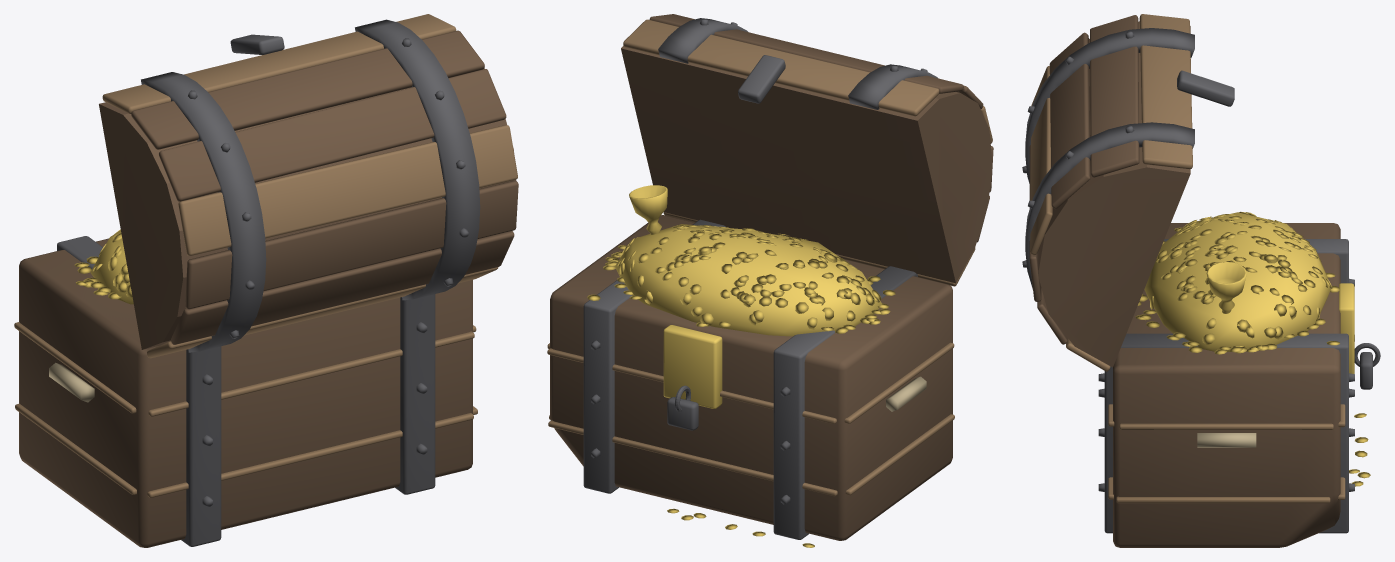
File: chest_open.3641d12a.glb
3 renders of one model, left to right at view 1: azimuth 30°, elevation 25°; view 2: azimuth 150°, elevation 25°; view 3: azimuth 270°, elevation 25°, orthographic. The views are drawn at different scales.
Visible parts, largest first — view 1: chest_open; view 2: chest_open; view 3: chest_open.
Part boxes in pixels (box(x1,y1,x2,y2)): chest_open: box(14, 14, 518, 547); chest_open: box(547, 14, 993, 547); chest_open: box(1022, 14, 1380, 547).
Size of the model in its own units: 1.03 by 1.22 by 0.9745.
